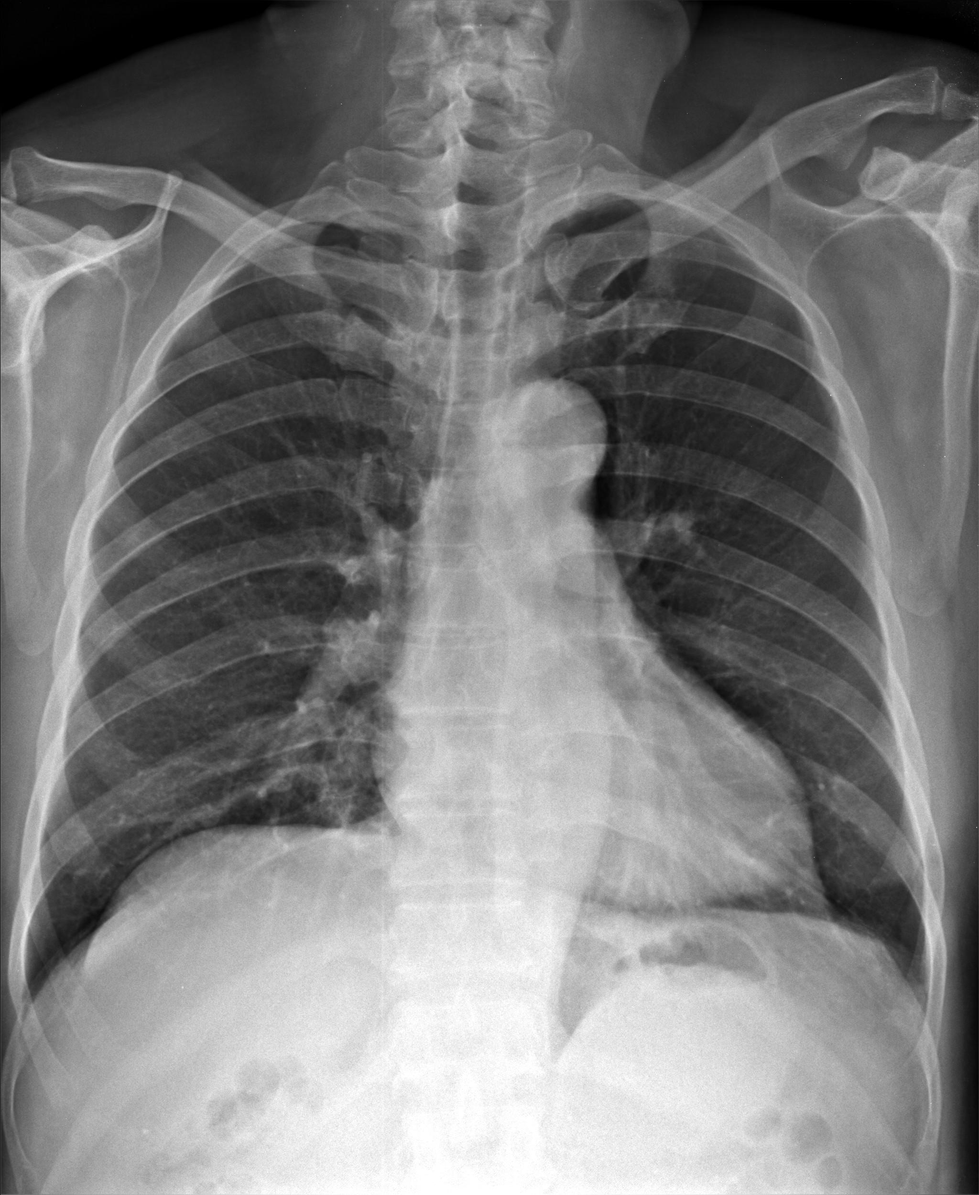Pleural thickening: (8, 967, 53, 1028)
